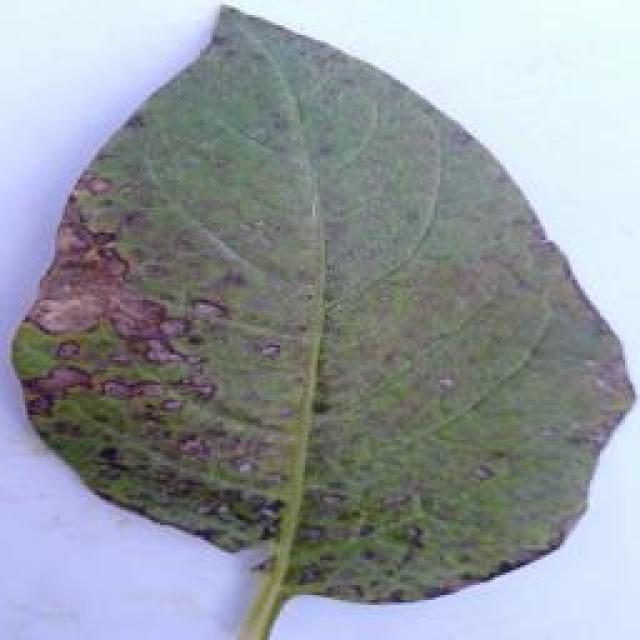Potato_Early_Blight: (13, 8, 631, 616)
